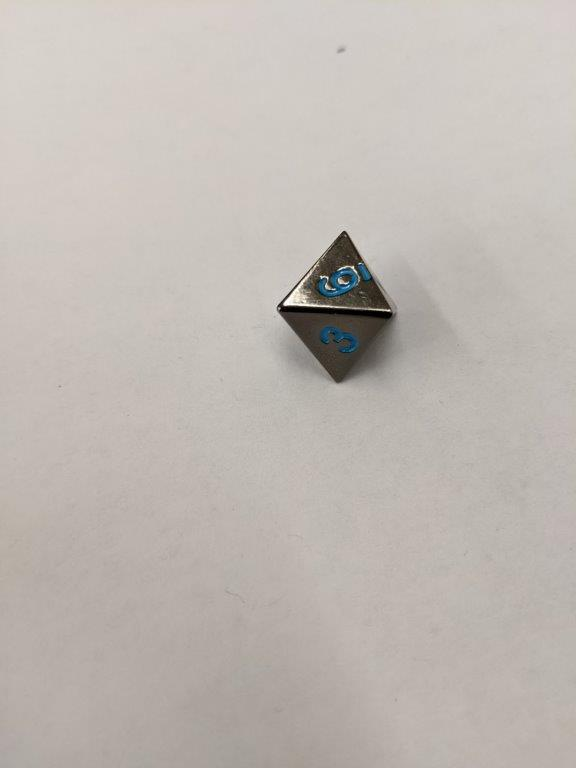d8-6: (277, 230, 396, 382)
